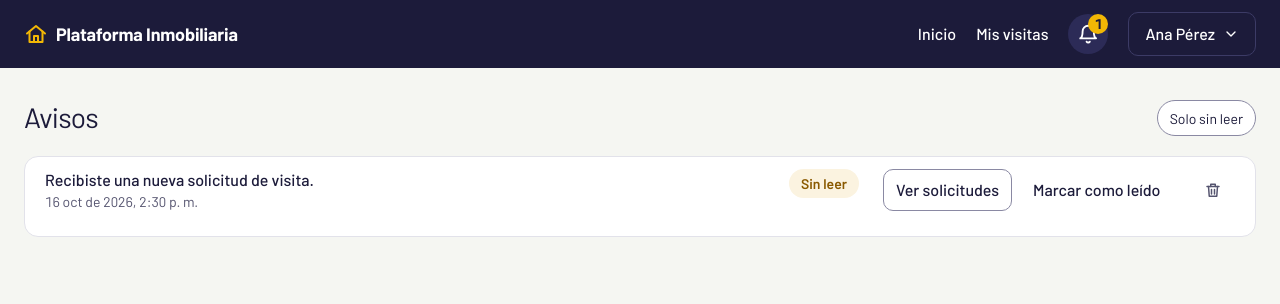
Test: NotificationsPage › shows the error when it could not be marked as read
Click the button "Marcar como leído" at (1097, 190), box [1020,169,1174,211]
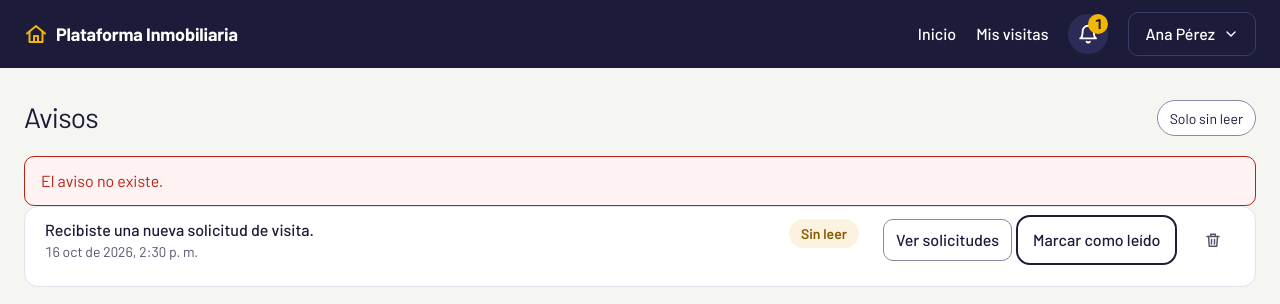
Expected: the message reads "El aviso no existe.", [41,171,163,190]
